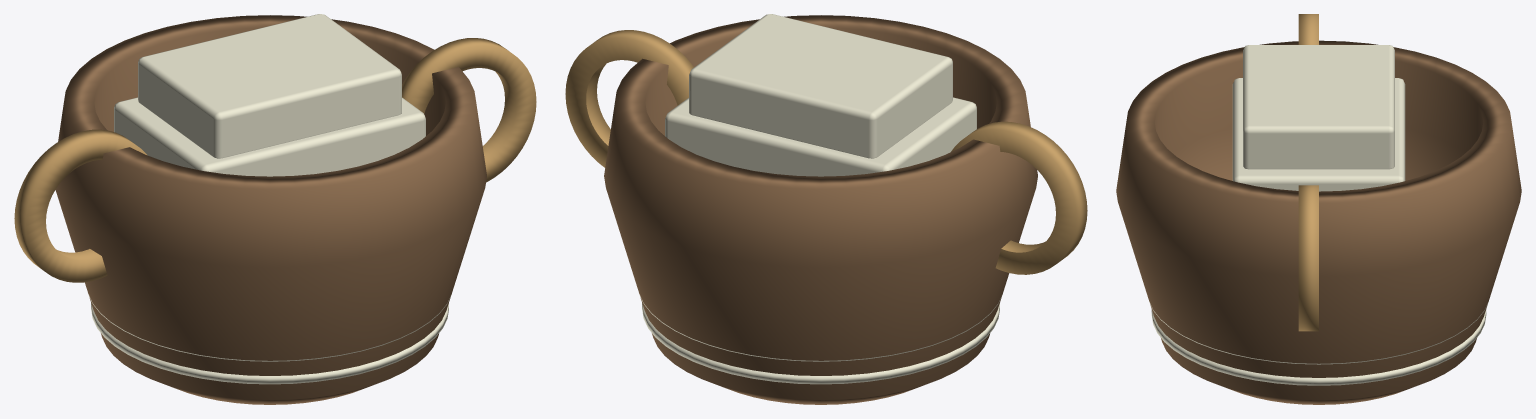
Rendered from fantasy-bathhouse-and-thermal-sanctuary-fantasy-bathho-35d98703__29462.glb.
3 views of the same model, side by side, from view 1: azimuth 30°, elevation 25°; view 2: azimuth 150°, elevation 25°; view 3: azimuth 270°, elevation 25° (orthographic). The views are drawn at different scales.
Visible parts, largest first — view 1: fantasy-bathhouse-and-thermal-sanctuary-towel-basket; view 2: fantasy-bathhouse-and-thermal-sanctuary-towel-basket; view 3: fantasy-bathhouse-and-thermal-sanctuary-towel-basket.
Boxes of the visible parts, x1=… form: fantasy-bathhouse-and-thermal-sanctuary-towel-basket: x1=14, y1=14, x2=536, y2=404; fantasy-bathhouse-and-thermal-sanctuary-towel-basket: x1=565, y1=14, x2=1087, y2=404; fantasy-bathhouse-and-thermal-sanctuary-towel-basket: x1=1116, y1=14, x2=1521, y2=404.
Bounding box in the file's own units: 1.09 × 0.58 × 0.8.
